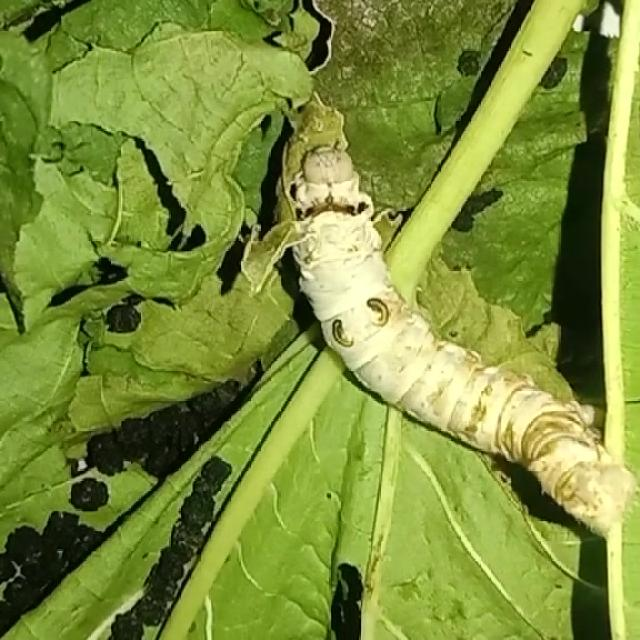Grasserie: (279, 138, 640, 559)
